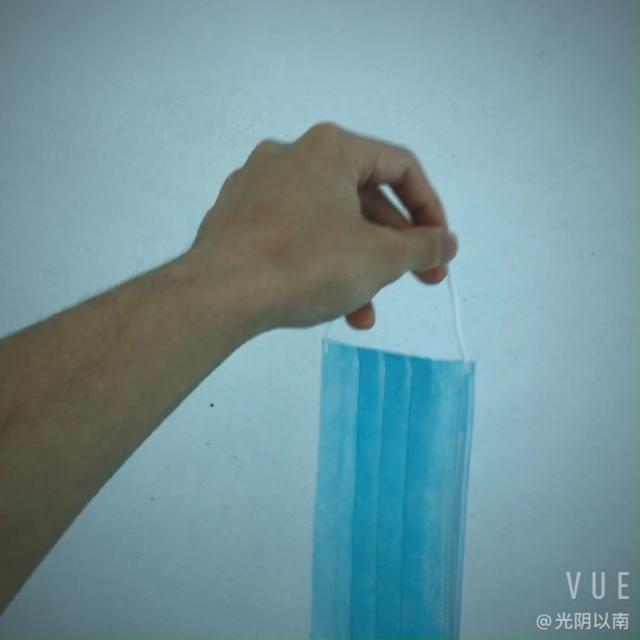non-organic waste: (285, 332, 483, 640)
